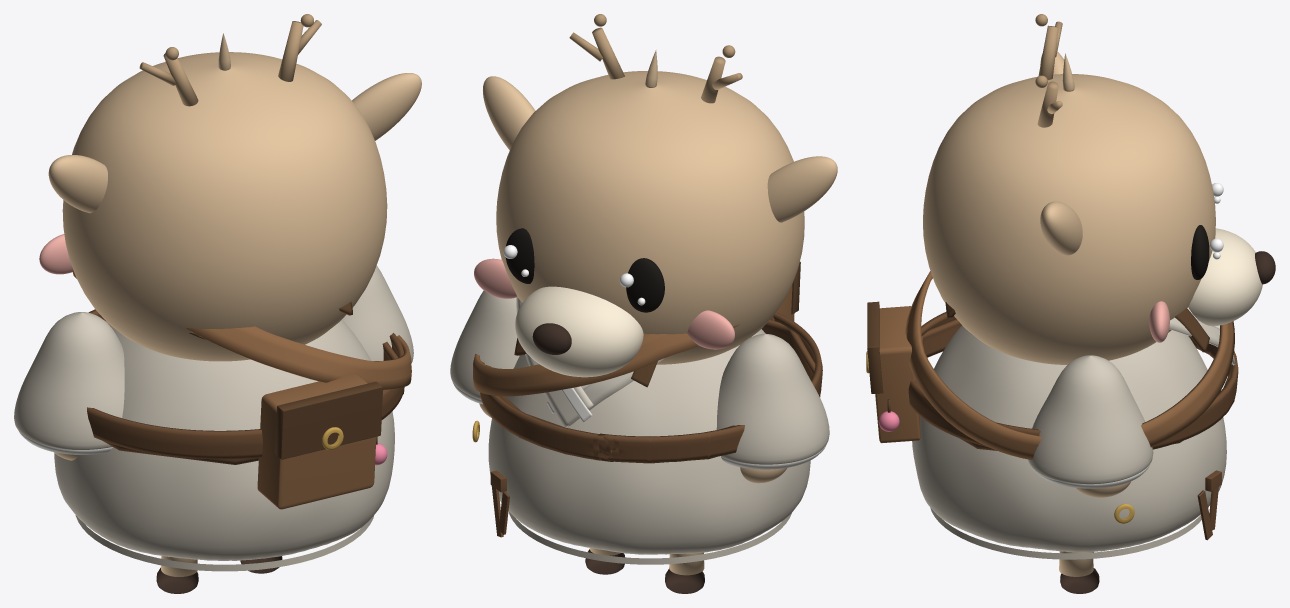
Rendered from mindon-deerdeer.glb.
3 views of the same model, side by side, from view 1: azimuth 30°, elevation 25°; view 2: azimuth 150°, elevation 25°; view 3: azimuth 270°, elevation 25° (orthographic). The views are drawn at different scales.
Visible parts, largest first — view 1: head, robe, sleeveL, pack, belt, chestStrap, flap, sleeveR, earR, earL, hem, cheekL (+3 smaller); view 2: head, robe, sleeveL, belt, muzzle, chestStrap, sleeveR, earL, earR, hem, eyeL, cheekL (+12 smaller); view 3: head, robe, sleeveR, chestStrap, muzzle, belt, pack, hem, earR, flap, eyeR, strapR (+5 smaller).
Boxes of the visible parts, box(x1,y1,x2,y2) form: head: box(62, 52, 387, 361); robe: box(54, 320, 394, 560); sleeveL: box(14, 312, 124, 449); pack: box(257, 373, 376, 509); belt: box(87, 309, 404, 464); chestStrap: box(72, 270, 411, 389); flap: box(275, 381, 382, 459); sleeveR: box(342, 265, 413, 363); earR: box(352, 73, 421, 140); earL: box(48, 155, 107, 213); hem: box(75, 515, 374, 571); cheekL: box(39, 234, 72, 274); head: box(496, 71, 804, 364); robe: box(488, 329, 810, 554); sleeveL: box(716, 333, 829, 464); belt: box(480, 312, 822, 463); muzzle: box(515, 286, 643, 377); chestStrap: box(473, 324, 739, 396); sleeveR: box(450, 290, 519, 398); earL: box(767, 156, 837, 222); earR: box(483, 76, 535, 150); hem: box(508, 511, 791, 564); eyeL: box(626, 258, 664, 312); cheekL: box(687, 310, 734, 349); head: box(923, 74, 1215, 364); robe: box(912, 325, 1226, 552); sleeveR: box(1027, 355, 1153, 484); chestStrap: box(905, 271, 1234, 460); muzzle: box(1188, 228, 1262, 326); belt: box(908, 312, 1238, 450); pack: box(875, 306, 920, 443); hem: box(930, 507, 1208, 559); earR: box(1040, 201, 1082, 255); flap: box(867, 301, 883, 393); eyeR: box(1191, 225, 1209, 279); strapR: box(945, 302, 1209, 352).
Size of the model in its own units: 1.18 by 1.67 by 1.18.
